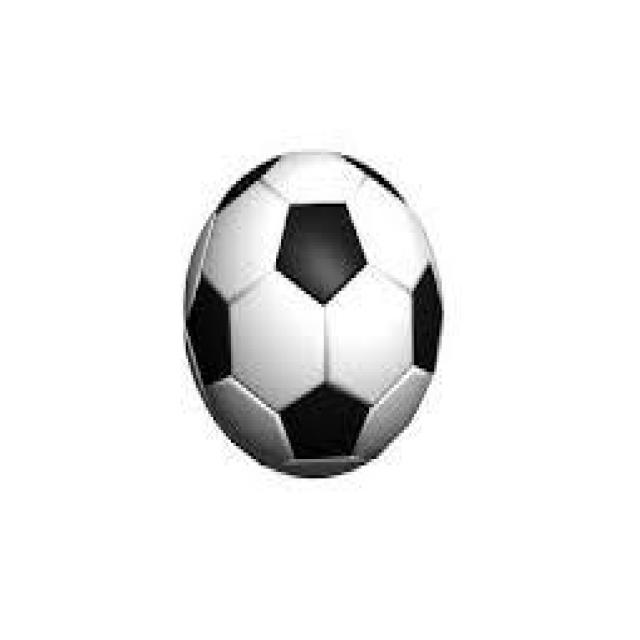Soccer Ball: (183, 149, 447, 478)
